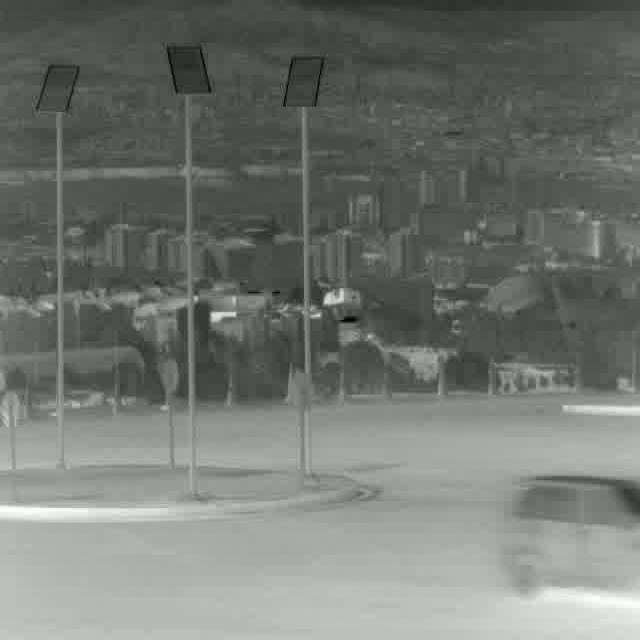Car: (501, 473, 640, 599)
